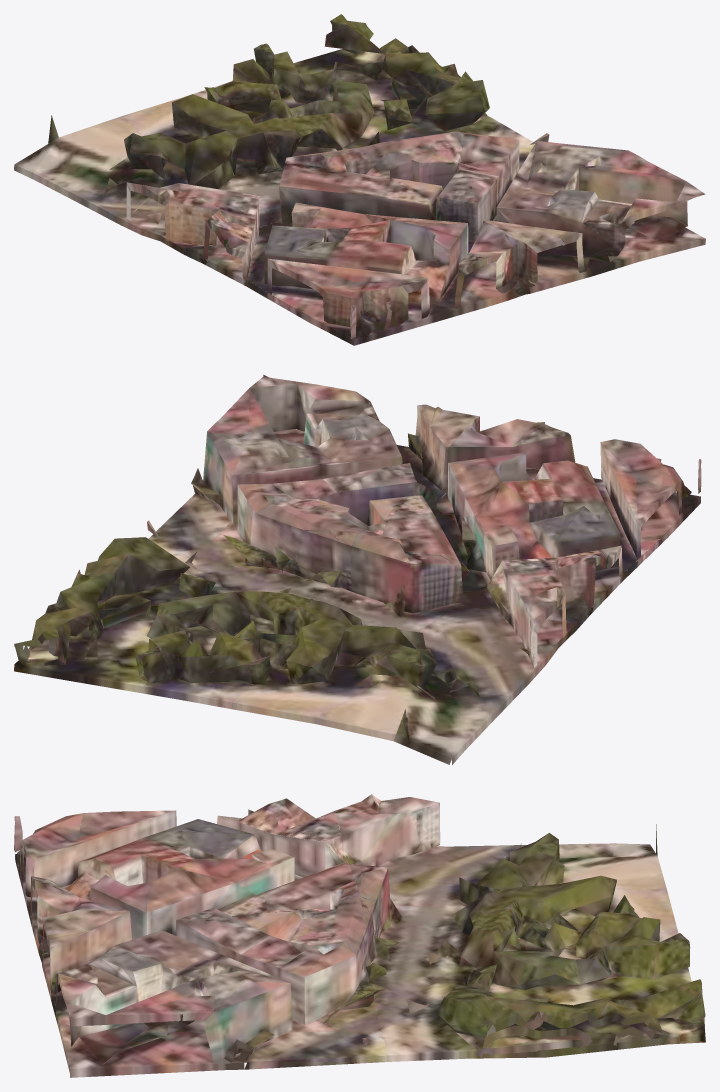
3 views of the same model, one above another, from view 1: azimuth 30°, elevation 25°; view 2: azimuth 150°, elevation 25°; view 3: azimuth 270°, elevation 25° (orthographic). The views are drawn at different scales.
Visible parts, largest first — view 1: Mesh_0; view 2: Mesh_0; view 3: Mesh_0.
Boxes of the visible parts, left/top/right/bottom form: Mesh_0: left=14, top=14, right=705, bottom=345; Mesh_0: left=14, top=374, right=701, bottom=764; Mesh_0: left=14, top=794, right=705, bottom=1077.
Bounding box in the file's own units: 266 × 39.45 × 330.
2 materials, 2 textured.
